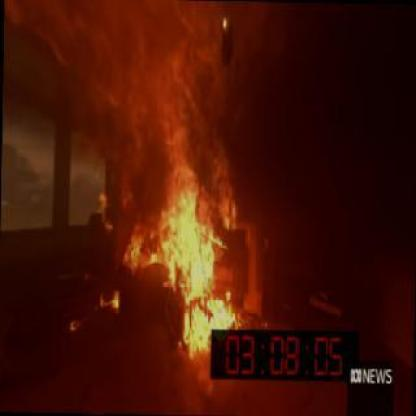Fire: (137, 122, 241, 328)
